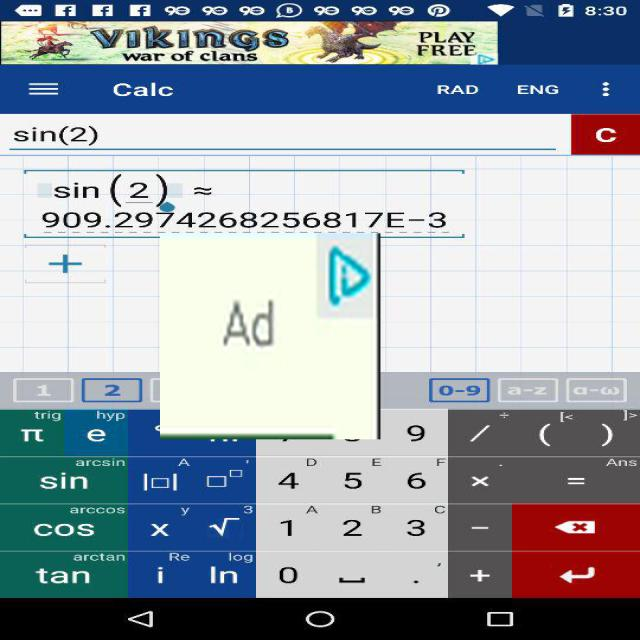sneaking: (160, 233, 380, 440)
